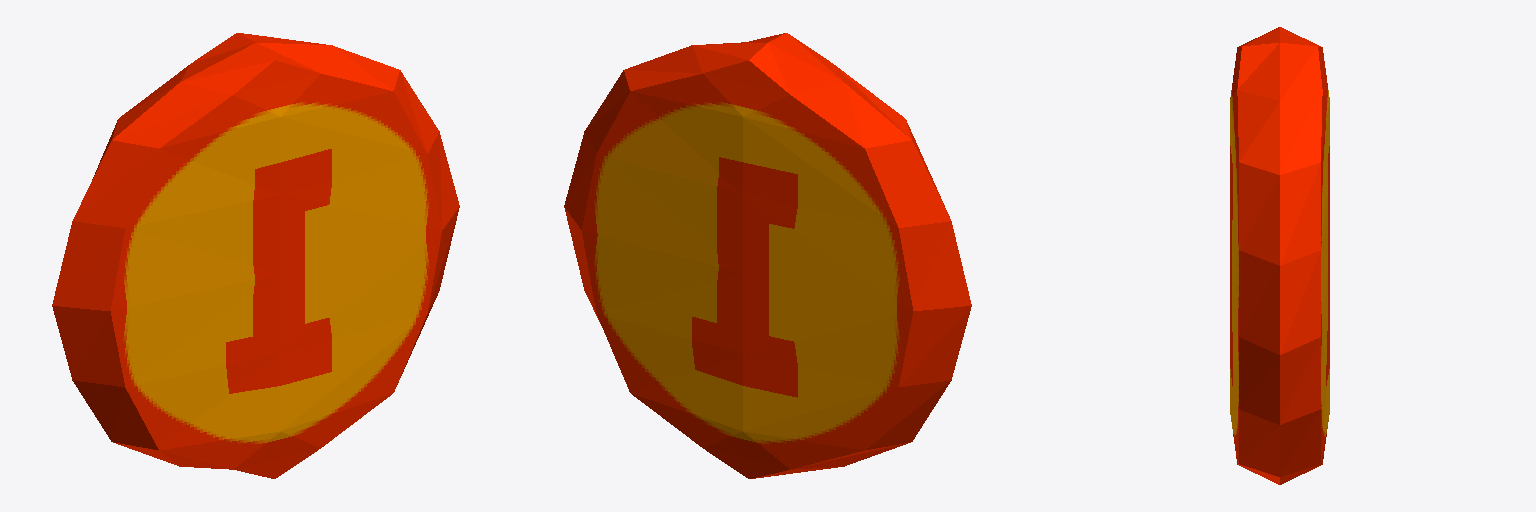
3 views of the same model, side by side, from view 1: azimuth 30°, elevation 25°; view 2: azimuth 150°, elevation 25°; view 3: azimuth 270°, elevation 25° (orthographic).
Visible parts, largest first — view 1: Cylinder; view 2: Cylinder; view 3: Cylinder.
Part boxes in pixels (left/top/right/bottom): Cylinder: left=52, top=33, right=459, bottom=478; Cylinder: left=564, top=33, right=971, bottom=478; Cylinder: left=1230, top=27, right=1329, bottom=484.
Bounding box in the file's own units: 30.34 × 30.34 × 6.4.
1 materials, 1 textured.